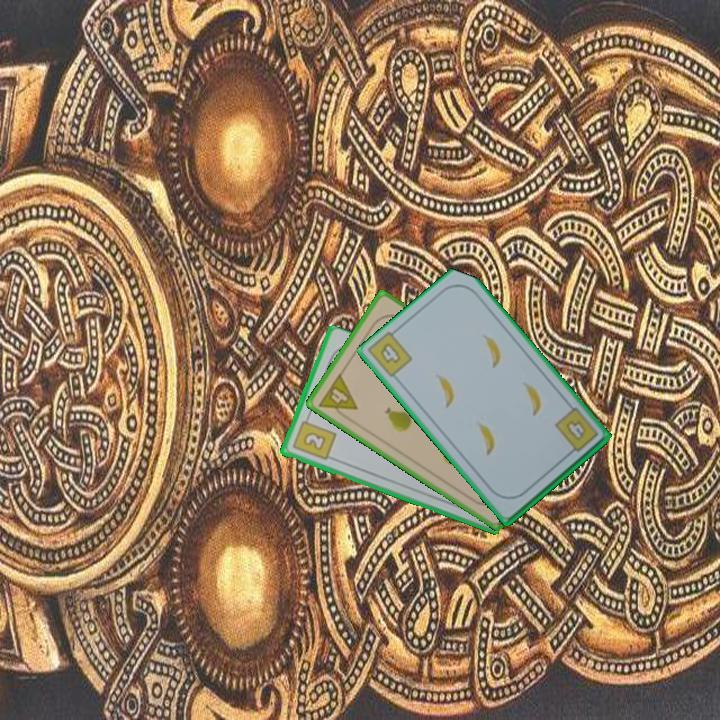2b: (289, 412, 338, 463)
4b: (551, 404, 601, 459), (376, 339, 403, 366)
4p: (315, 370, 360, 424)
